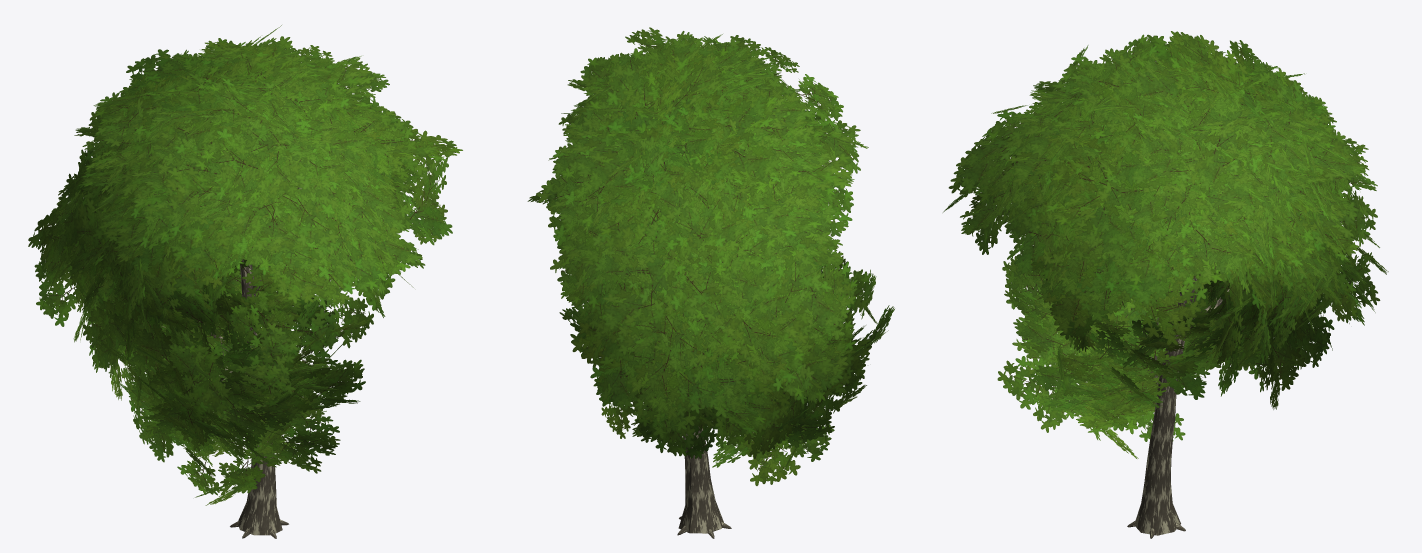
Rendered from tree_plane.glb.
3 renders of one model, left to right at view 1: azimuth 30°, elevation 25°; view 2: azimuth 150°, elevation 25°; view 3: azimuth 270°, elevation 25°, orthographic.
Parts seen in each view (by area): view 1: tree_plane; view 2: tree_plane; view 3: tree_plane.
Part boxes in pixels (box(x1,y1,x2,y2)): tree_plane: box(28, 25, 462, 538); tree_plane: box(527, 27, 894, 538); tree_plane: box(943, 31, 1388, 538).
Bounding box in the file's own units: 15.93 × 20.54 × 17.85.
2 materials, 2 textured.
